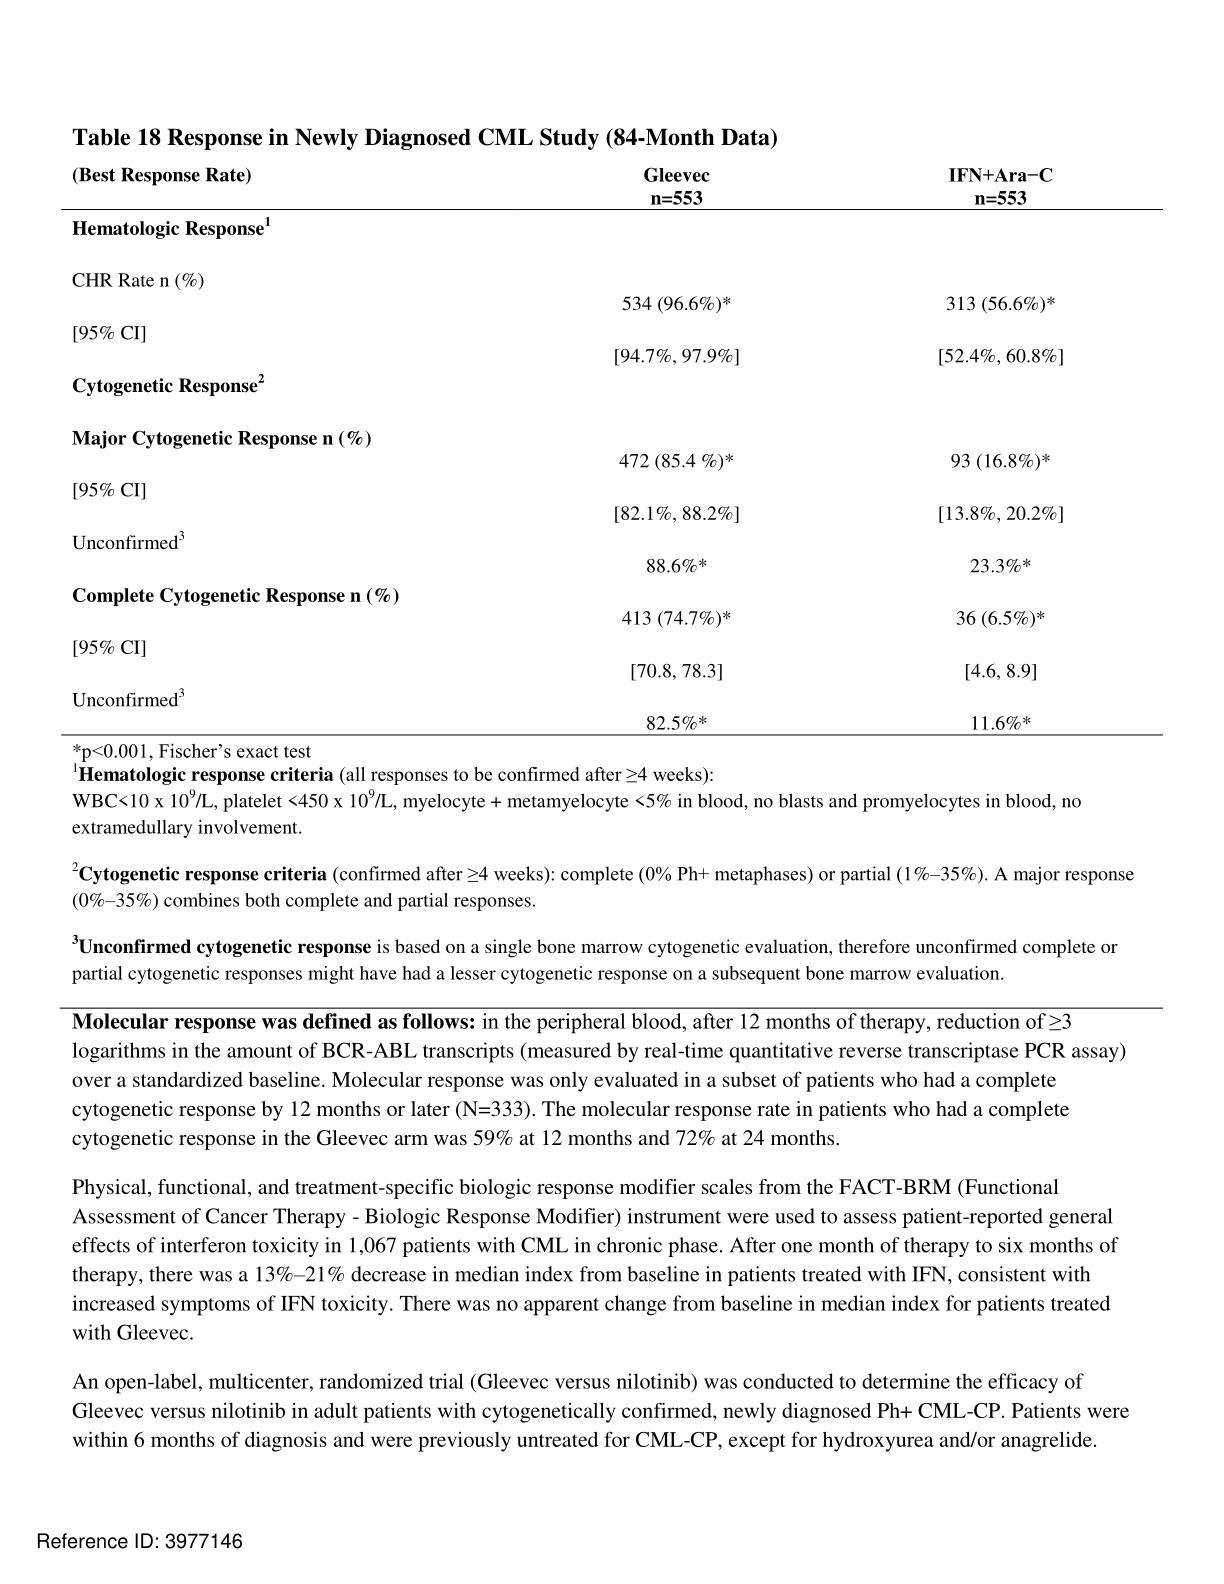partial_lined: (60, 159, 1160, 739)
